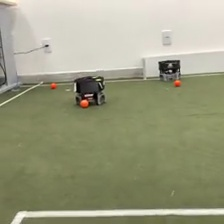ball: (78, 96, 90, 108), (173, 78, 182, 87), (49, 81, 57, 89)
goal: (140, 48, 224, 82)
robot: (72, 73, 108, 106), (157, 57, 182, 83)
